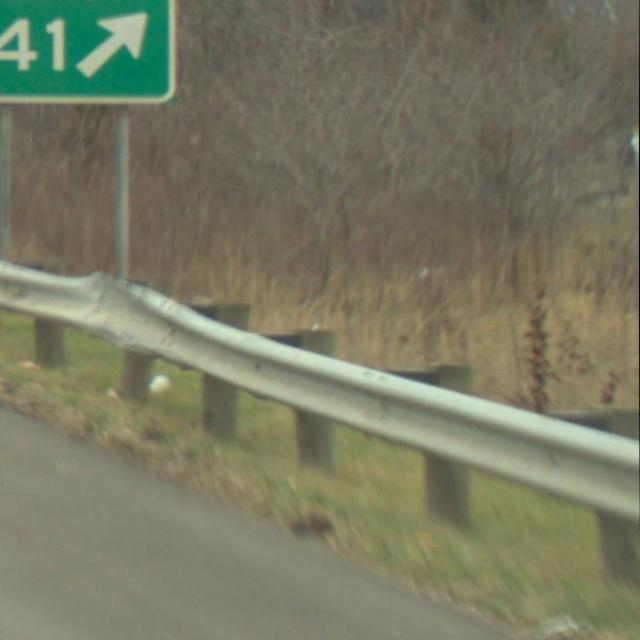Guard rail: (0, 250, 640, 587)
